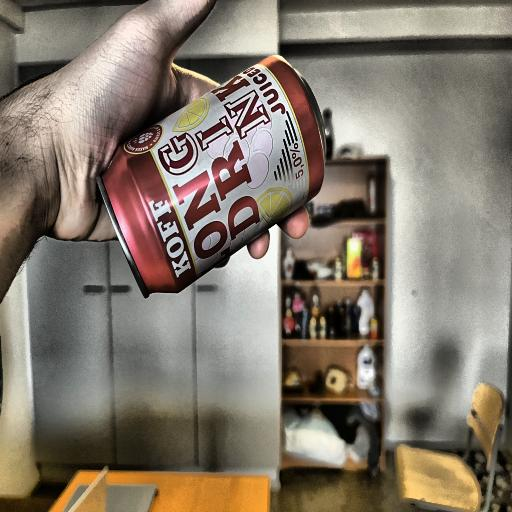koff: (116, 60, 326, 309)
